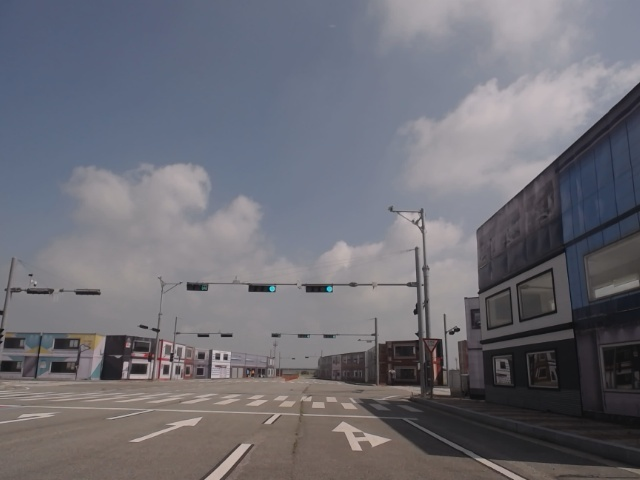straight_green_4: (250, 284, 277, 293), (304, 285, 334, 293)
